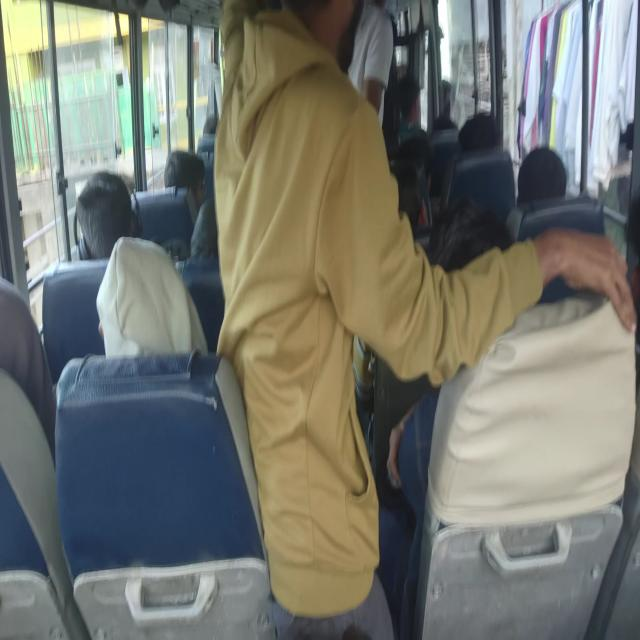person: (232, 7, 439, 492), (81, 247, 187, 381), (443, 217, 514, 308), (610, 189, 640, 364), (0, 280, 33, 405), (80, 165, 122, 243), (395, 138, 425, 234), (531, 145, 572, 206), (462, 109, 508, 157), (159, 148, 202, 199), (433, 71, 462, 127), (396, 72, 420, 123), (200, 109, 225, 144)
